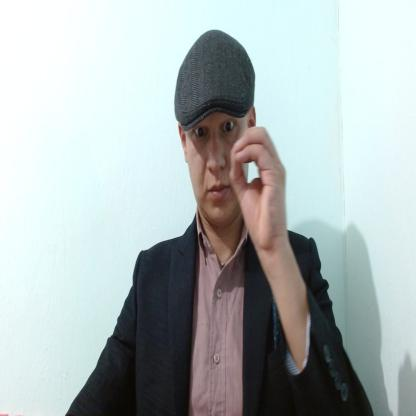O: (229, 122, 286, 253)
